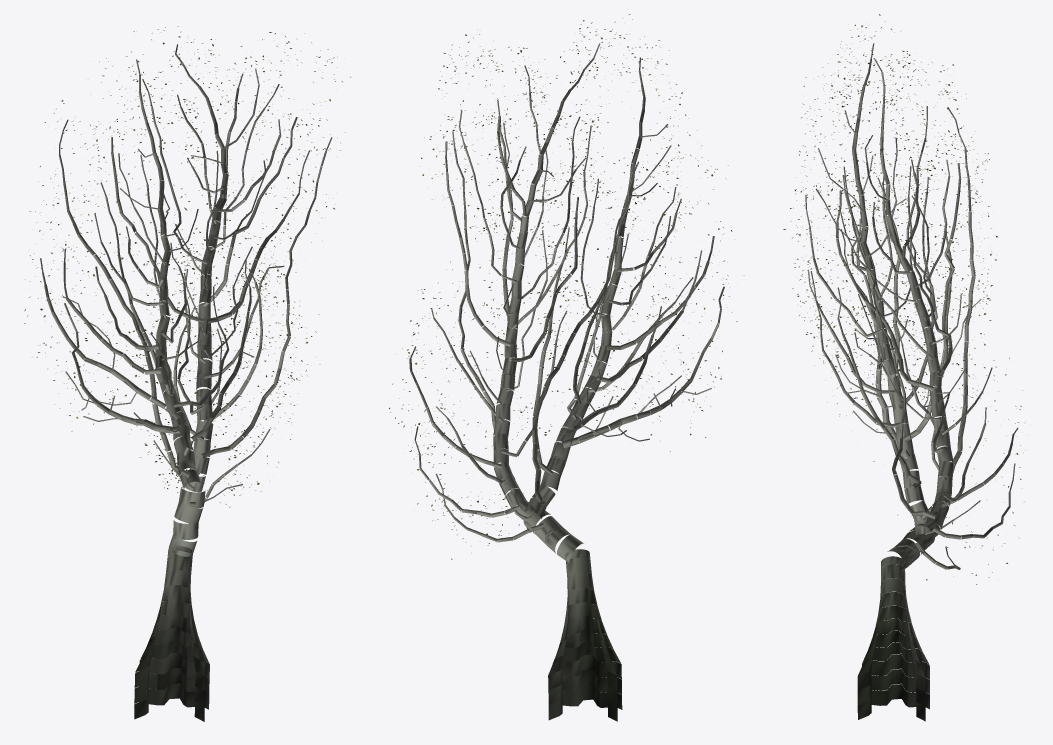
The model's file is SM_Tree_birch_0.glb.
3 views of the same model, side by side, from view 1: azimuth 30°, elevation 25°; view 2: azimuth 150°, elevation 25°; view 3: azimuth 270°, elevation 25° (orthographic). The views are drawn at different scales.
Parts seen in each view (by area): view 1: SM_Tree_birch_0; view 2: SM_Tree_birch_0; view 3: SM_Tree_birch_0.
Part boxes in pixels (bbox=[...]): SM_Tree_birch_0: bbox=[24, 26, 350, 721]; SM_Tree_birch_0: bbox=[389, 14, 744, 721]; SM_Tree_birch_0: bbox=[783, 14, 1022, 721].
Bounding box in the file's own units: 5.64 × 12.03 × 4.06.
